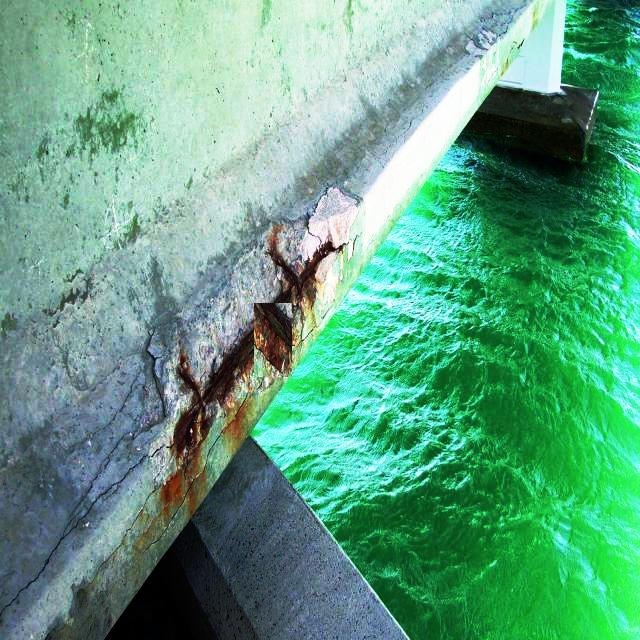Corrosion: (174, 386, 209, 456), (269, 238, 302, 300), (203, 354, 242, 404), (299, 247, 334, 294), (256, 304, 292, 346), (177, 358, 201, 402), (229, 330, 254, 358)
